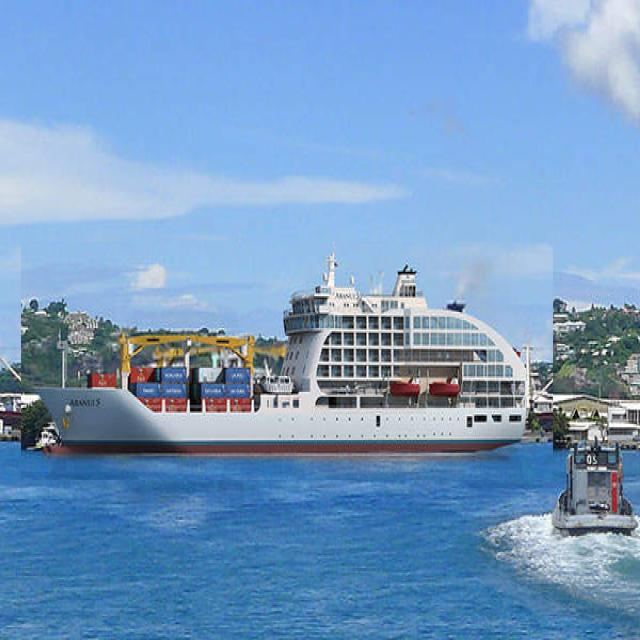PassengerShip: (21, 242, 553, 480)
